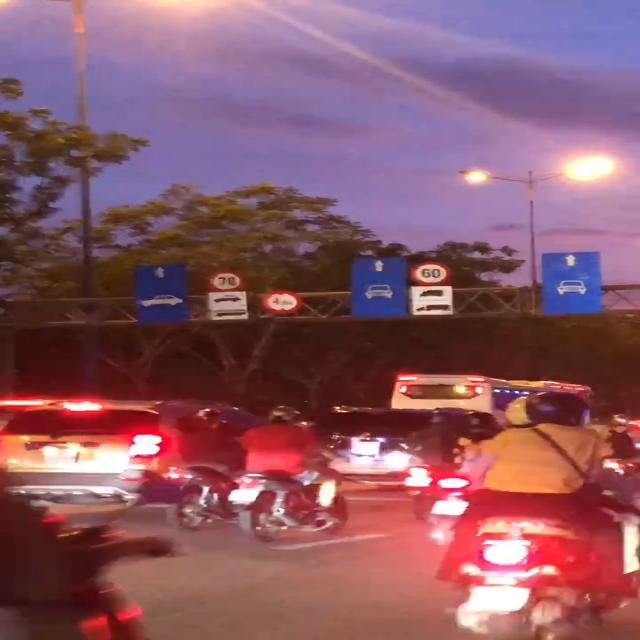Bien bao han che chieu cao: (257, 286, 308, 316)
Bien bao toc do toi da cho phep: (404, 258, 457, 286), (204, 268, 247, 294)
